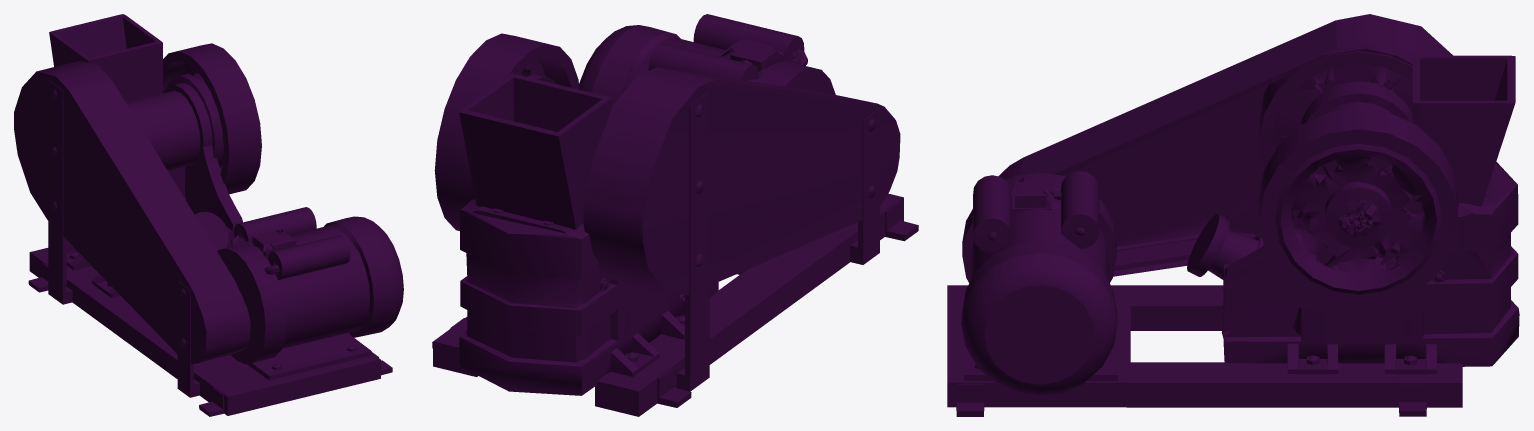
The model's file is cage04.obj.
3 renders of one model, left to right at view 1: azimuth 30°, elevation 25°; view 2: azimuth 150°, elevation 25°; view 3: azimuth 270°, elevation 25°, orthographic. The views are drawn at different scales.
Parts seen in each view (by area): view 1: polySurface436; view 2: polySurface436; view 3: polySurface436.
Part boxes in pixels (left/top/right/bottom): polySurface436: left=14, top=14, right=403, bottom=416; polySurface436: left=432, top=14, right=918, bottom=416; polySurface436: left=947, top=14, right=1519, bottom=416.
Bounding box in the file's own units: 5.8 × 6.05 × 10.81.
